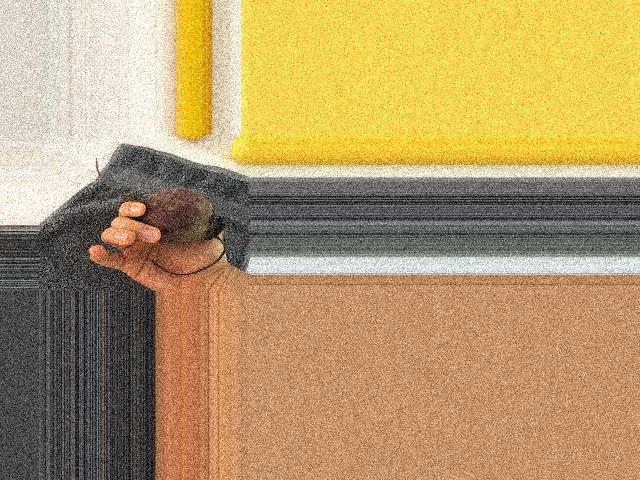beet: (95, 158, 224, 275)
